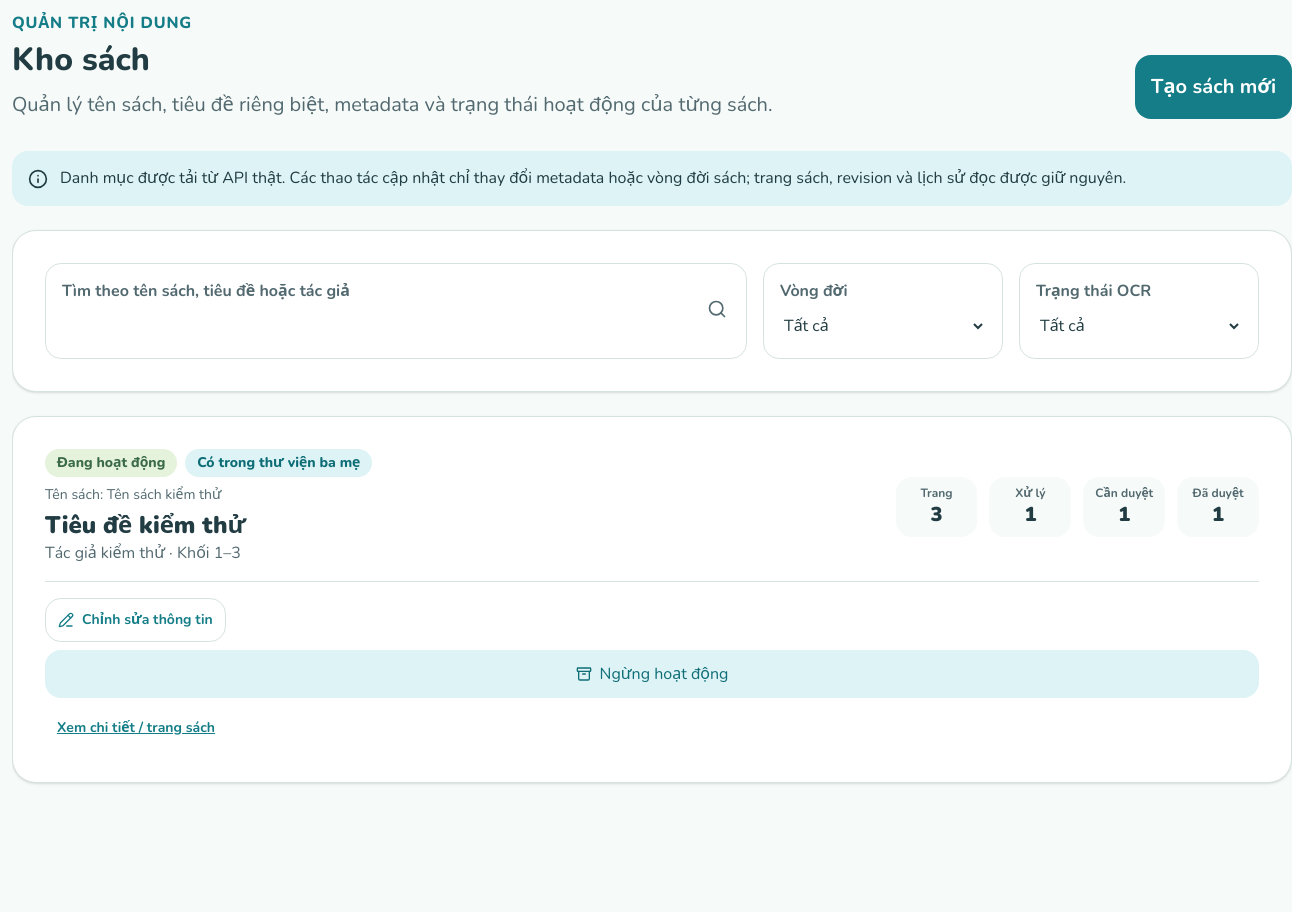
Test: admin components › retires a book from the inventory and reloads the lifecycle from the service
Click the button "Ngừng hoạt động" at {"x": 652, "y": 674}, box 45,650 -> 1259,698
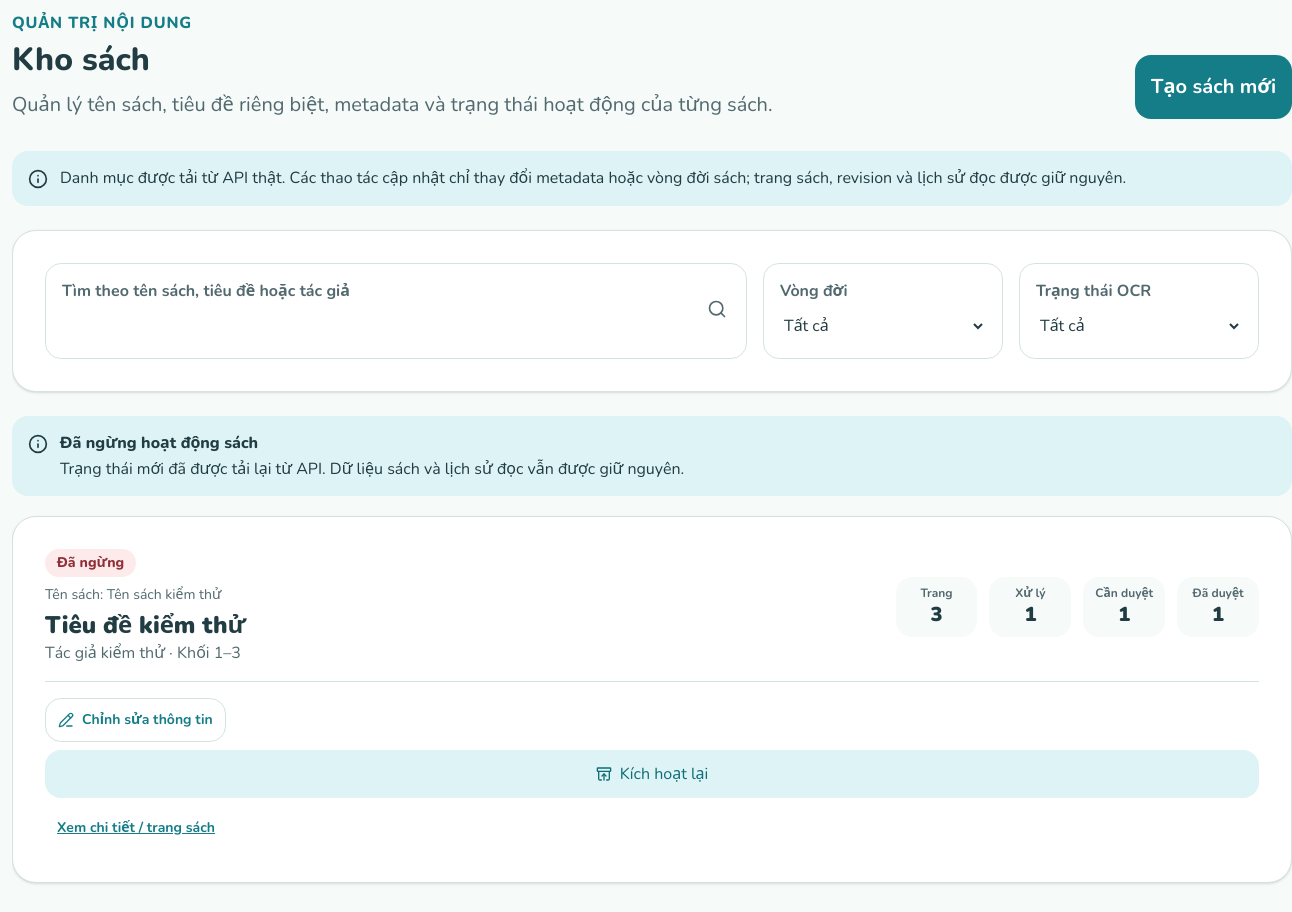
Expected: the button "Kích hoạt lại" is shown, 45,750 -> 1259,798
Expected: the text "Đã ngừng" is shown, 45,549 -> 136,577
Expected: the text "Đã ngừng hoạt động sách" is shown, 60,432 -> 258,454
